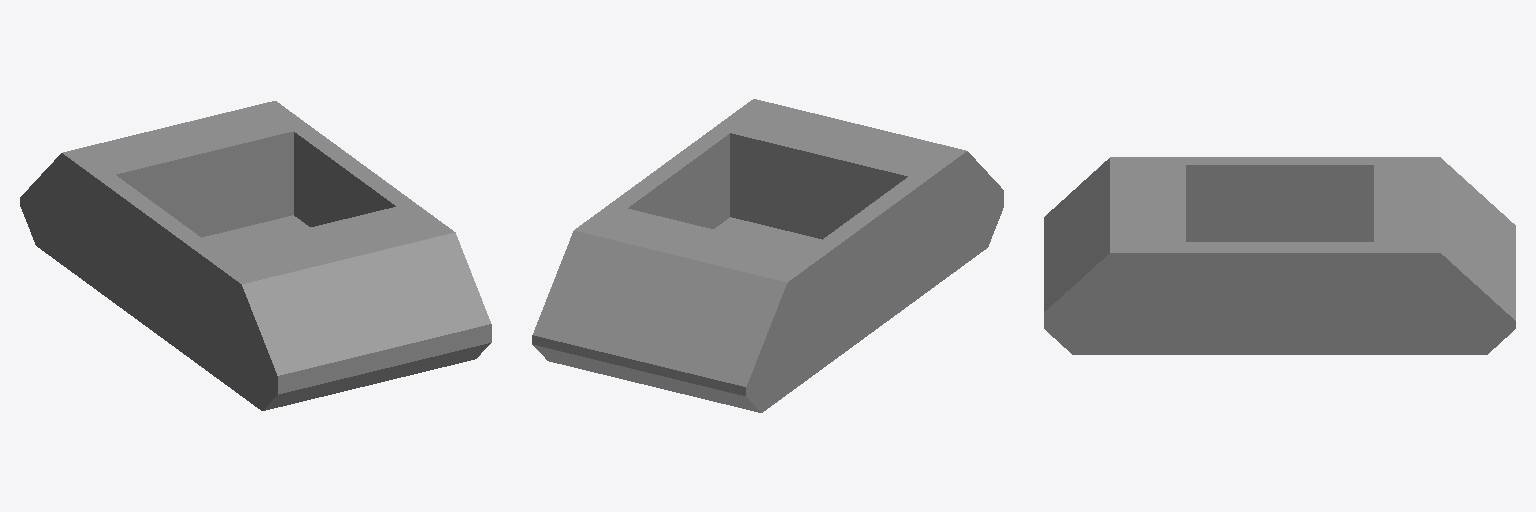
URDF robot description (worldv3):
<?xml version="1.0" encoding="utf-8"?>
<!-- This URDF was automatically created by SolidWorks to URDF Exporter! Originally created by [author] ([email redacted]) 
     Commit Version: 1.6.0-4-g7f85cfe  Build Version: 1.6.7995.38578
     For more information, please see http://wiki.ros.org/sw_urdf_exporter -->
<robot
  name="worldv3">
  <link
    name="base_link">
    <inertial>
      <origin
        xyz="-0.425115110970957 4.54042041545764 -3.25358123416043"
        rpy="0 0 0" />
      <mass
        value="2573.8812" />
      <inertia
        ixx="26975.5512846021"
        ixy="-4824.20809797755"
        ixz="-0.0074023472119172"
        iyy="14841.9767137964"
        iyz="-0.00658534998791365"
        izz="41730.6573822185" />
    </inertial>
    <visual>
      <origin
        xyz="0 0 0"
        rpy="0 0 0" />
      <geometry>
        <mesh
          filename="package://worldv3/meshes/base_link.STL" />
      </geometry>
      <material
        name="">
        <color
          rgba="0.627450980392157 0.627450980392157 0.627450980392157 1" />
      </material>
    </visual>
    <collision>
      <origin
        xyz="0 0 0"
        rpy="0 0 0" />
      <geometry>
        <mesh
          filename="package://worldv3/meshes/base_link.STL" />
      </geometry>
    </collision>
  </link>
  <link
    name="cp1_r">
    <inertial>
      <origin
        xyz="0 0.00150000000000006 0"
        rpy="0 0 0" />
      <mass
        value="0.0108000000000003" />
      <inertia
        ixx="3.24810000000006E-06"
        ixy="1.32348898008481E-23"
        ixz="-4.2351647362715E-22"
        iyy="6.48000000000016E-06"
        iyz="1.06539804104437E-24"
        izz="3.2481000000001E-06" />
    </inertial>
    <visual>
      <origin
        xyz="0 0 0"
        rpy="0 0 0" />
      <geometry>
        <mesh
          filename="package://worldv3/meshes/cp1_r.STL" />
      </geometry>
      <material
        name="">
        <color
          rgba="0.627450980392157 0.627450980392157 0.627450980392157 1" />
      </material>
    </visual>
    <collision>
      <origin
        xyz="0 0 0"
        rpy="0 0 0" />
      <geometry>
        <mesh
          filename="package://worldv3/meshes/cp1_r.STL" />
      </geometry>
    </collision>
  </link>
  <joint
    name="cp1j"
    type="fixed">
    <origin
      xyz="-3.54 0.19522 -3.1586"
      rpy="0 0 1.5708" />
    <parent
      link="base_link" />
    <child
      link="cp1_r" />
    <axis
      xyz="0 0 0" />
  </joint>
  <link
    name="cp2_r">
    <inertial>
      <origin
        xyz="0 0.00150000000000006 4.44089209850063E-16"
        rpy="0 0 0" />
      <mass
        value="0.0107999999999995" />
      <inertia
        ixx="3.2480999999998E-06"
        ixy="-1.98523347012514E-23"
        ixz="-8.10936611299124E-39"
        iyy="6.4799999999996E-06"
        iyz="1.04502689869028E-23"
        izz="3.2480999999998E-06" />
    </inertial>
    <visual>
      <origin
        xyz="0 0 0"
        rpy="0 0 0" />
      <geometry>
        <mesh
          filename="package://worldv3/meshes/cp2_r.STL" />
      </geometry>
      <material
        name="">
        <color
          rgba="0.627450980392157 0.627450980392157 0.627450980392157 1" />
      </material>
    </visual>
    <collision>
      <origin
        xyz="0 0 0"
        rpy="0 0 0" />
      <geometry>
        <mesh
          filename="package://worldv3/meshes/cp2_r.STL" />
      </geometry>
    </collision>
  </link>
  <joint
    name="cp2j"
    type="fixed">
    <origin
      xyz="-2.985 1.8152 -3.1586"
      rpy="0 0 0" />
    <parent
      link="base_link" />
    <child
      link="cp2_r" />
    <axis
      xyz="0 0 0" />
  </joint>
  <link
    name="cp3_b">
    <inertial>
      <origin
        xyz="0 0.00149999999999995 -4.44089209850063E-16"
        rpy="0 0 0" />
      <mass
        value="0.0107999999999999" />
      <inertia
        ixx="3.24809999999994E-06"
        ixy="1.83670992315982E-36"
        ixz="2.11758236813575E-22"
        iyy="6.47999999999993E-06"
        iyz="-4.16833383673257E-24"
        izz="3.24809999999999E-06" />
    </inertial>
    <visual>
      <origin
        xyz="0 0 0"
        rpy="0 0 0" />
      <geometry>
        <mesh
          filename="package://worldv3/meshes/cp3_b.STL" />
      </geometry>
      <material
        name="">
        <color
          rgba="0.627450980392157 0.627450980392157 0.627450980392157 1" />
      </material>
    </visual>
    <collision>
      <origin
        xyz="0 0 0"
        rpy="0 0 0" />
      <geometry>
        <mesh
          filename="package://worldv3/meshes/cp3_b.STL" />
      </geometry>
    </collision>
  </link>
  <joint
    name="cp3_j"
    type="fixed">
    <origin
      xyz="0.76299 1.4352 -3.1586"
      rpy="0 0 1.5708" />
    <parent
      link="base_link" />
    <child
      link="cp3_b" />
    <axis
      xyz="0 0 0" />
  </joint>
  <link
    name="cp4_b">
    <inertial>
      <origin
        xyz="0 0.00150000000000006 0"
        rpy="0 0 0" />
      <mass
        value="0.0108000000000003" />
      <inertia
        ixx="3.24810000000006E-06"
        ixy="6.61744490042431E-24"
        ixz="-2.11758236813574E-22"
        iyy="6.48000000000016E-06"
        iyz="7.68284294146855E-24"
        izz="3.2481000000001E-06" />
    </inertial>
    <visual>
      <origin
        xyz="0 0 0"
        rpy="0 0 0" />
      <geometry>
        <mesh
          filename="package://worldv3/meshes/cp4_b.STL" />
      </geometry>
      <material
        name="">
        <color
          rgba="0.627450980392157 0.627450980392157 0.627450980392157 1" />
      </material>
    </visual>
    <collision>
      <origin
        xyz="0 0 0"
        rpy="0 0 0" />
      <geometry>
        <mesh
          filename="package://worldv3/meshes/cp4_b.STL" />
      </geometry>
    </collision>
  </link>
  <joint
    name="cp4j"
    type="fixed">
    <origin
      xyz="0.064988 2.9152 -3.1836"
      rpy="0 0 0" />
    <parent
      link="base_link" />
    <child
      link="cp4_b" />
    <axis
      xyz="0 0 0" />
  </joint>
  <link
    name="cp5_r">
    <inertial>
      <origin
        xyz="0 0.00150000000000006 0"
        rpy="0 0 0" />
      <mass
        value="0.0108000000000003" />
      <inertia
        ixx="3.24810000000004E-06"
        ixy="-2.64697796016966E-23"
        ixz="0"
        iyy="6.48000000000008E-06"
        iyz="2.09177327423048E-23"
        izz="3.24810000000004E-06" />
    </inertial>
    <visual>
      <origin
        xyz="0 0 0"
        rpy="0 0 0" />
      <geometry>
        <mesh
          filename="package://worldv3/meshes/cp5_r.STL" />
      </geometry>
      <material
        name="">
        <color
          rgba="0.627450980392157 0.627450980392157 0.627450980392157 1" />
      </material>
    </visual>
    <collision>
      <origin
        xyz="0 0 0"
        rpy="0 0 0" />
      <geometry>
        <mesh
          filename="package://worldv3/meshes/cp5_r.STL" />
      </geometry>
    </collision>
  </link>
  <joint
    name="cp5j"
    type="fixed">
    <origin
      xyz="-3.543 2.3702 -3.1836"
      rpy="0 0 -1.5708" />
    <parent
      link="base_link" />
    <child
      link="cp5_r" />
    <axis
      xyz="0 0 0" />
  </joint>
  <link
    name="cp6_r">
    <inertial>
      <origin
        xyz="4.44089209850063E-16 0.00150000000000006 -4.44089209850063E-16"
        rpy="0 0 0" />
      <mass
        value="0.0108000000000003" />
      <inertia
        ixx="3.24810000000004E-06"
        ixy="-1.98523347012724E-23"
        ixz="0"
        iyy="6.48000000000008E-06"
        iyz="2.7535177642729E-23"
        izz="3.24810000000004E-06" />
    </inertial>
    <visual>
      <origin
        xyz="0 0 0"
        rpy="0 0 0" />
      <geometry>
        <mesh
          filename="package://worldv3/meshes/cp6_r.STL" />
      </geometry>
      <material
        name="">
        <color
          rgba="0.627450980392157 0.627450980392157 0.627450980392157 1" />
      </material>
    </visual>
    <collision>
      <origin
        xyz="0 0 0"
        rpy="0 0 0" />
      <geometry>
        <mesh
          filename="package://worldv3/meshes/cp6_r.STL" />
      </geometry>
    </collision>
  </link>
  <joint
    name="cp6j"
    type="fixed">
    <origin
      xyz="-3.11 4.0152 -3.1586"
      rpy="0 0 0" />
    <parent
      link="base_link" />
    <child
      link="cp6_r" />
    <axis
      xyz="0 0 0" />
  </joint>
  <link
    name="cp7_b">
    <inertial>
      <origin
        xyz="-4.44089209850063E-16 0.00150000000000028 0"
        rpy="0 0 0" />
      <mass
        value="0.0107999999999999" />
      <inertia
        ixx="3.24809999999992E-06"
        ixy="-3.044024654194E-23"
        ixz="-1.62187322259819E-38"
        iyy="6.47999999999984E-06"
        iyz="-1.07857787371586E-23"
        izz="3.24809999999992E-06" />
    </inertial>
    <visual>
      <origin
        xyz="0 0 0"
        rpy="0 0 0" />
      <geometry>
        <mesh
          filename="package://worldv3/meshes/cp7_b.STL" />
      </geometry>
      <material
        name="">
        <color
          rgba="0.627450980392157 0.627450980392157 0.627450980392157 1" />
      </material>
    </visual>
    <collision>
      <origin
        xyz="0 0 0"
        rpy="0 0 0" />
      <geometry>
        <mesh
          filename="package://worldv3/meshes/cp7_b.STL" />
      </geometry>
    </collision>
  </link>
  <joint
    name="cp7j"
    type="fixed">
    <origin
      xyz="0.75999 3.5352 -3.1836"
      rpy="0 0 -1.5708" />
    <parent
      link="base_link" />
    <child
      link="cp7_b" />
    <axis
      xyz="0 0 0" />
  </joint>
  <link
    name="cp8_b">
    <inertial>
      <origin
        xyz="3.46944695195361E-18 0.00150000000000006 0"
        rpy="0 0 0" />
      <mass
        value="0.0108000000000003" />
      <inertia
        ixx="3.24810000000006E-06"
        ixy="6.61744490042431E-24"
        ixz="-2.11758236813574E-22"
        iyy="6.48000000000016E-06"
        iyz="7.68284294146855E-24"
        izz="3.2481000000001E-06" />
    </inertial>
    <visual>
      <origin
        xyz="0 0 0"
        rpy="0 0 0" />
      <geometry>
        <mesh
          filename="package://worldv3/meshes/cp8_b.STL" />
      </geometry>
      <material
        name="">
        <color
          rgba="0.627450980392157 0.627450980392157 0.627450980392157 1" />
      </material>
    </visual>
    <collision>
      <origin
        xyz="0 0 0"
        rpy="0 0 0" />
      <geometry>
        <mesh
          filename="package://worldv3/meshes/cp8_b.STL" />
      </geometry>
    </collision>
  </link>
  <joint
    name="cp8j"
    type="fixed">
    <origin
      xyz="0.014988 5.1152 -3.1586"
      rpy="0 0 0" />
    <parent
      link="base_link" />
    <child
      link="cp8_b" />
    <axis
      xyz="0 0 0" />
  </joint>
  <link
    name="cp9_r">
    <inertial>
      <origin
        xyz="-8.88178419700125E-16 0.00150000000000006 4.44089209850063E-16"
        rpy="0 0 0" />
      <mass
        value="0.0108000000000004" />
      <inertia
        ixx="3.24810000000009E-06"
        ixy="-1.32348898008483E-23"
        ixz="0"
        iyy="6.48000000000027E-06"
        iyz="1.43002878419084E-23"
        izz="3.24810000000018E-06" />
    </inertial>
    <visual>
      <origin
        xyz="0 0 0"
        rpy="0 0 0" />
      <geometry>
        <mesh
          filename="package://worldv3/meshes/cp9_r.STL" />
      </geometry>
      <material
        name="">
        <color
          rgba="0.627450980392157 0.627450980392157 0.627450980392157 1" />
      </material>
    </visual>
    <collision>
      <origin
        xyz="0 0 0"
        rpy="0 0 0" />
      <geometry>
        <mesh
          filename="package://worldv3/meshes/cp9_r.STL" />
      </geometry>
    </collision>
  </link>
  <joint
    name="cp9j"
    type="fixed">
    <origin
      xyz="-3.54 4.4952 -3.1586"
      rpy="0 0 1.5708" />
    <parent
      link="base_link" />
    <child
      link="cp9_r" />
    <axis
      xyz="0 0 0" />
  </joint>
  <link
    name="cp10_r">
    <inertial>
      <origin
        xyz="0 0.00150000000000006 0"
        rpy="0 0 0" />
      <mass
        value="0.0108000000000003" />
      <inertia
        ixx="3.24810000000004E-06"
        ixy="-1.98523347012724E-23"
        ixz="-1.62187322259838E-40"
        iyy="6.48000000000008E-06"
        iyz="2.7535177642729E-23"
        izz="3.24810000000004E-06" />
    </inertial>
    <visual>
      <origin
        xyz="0 0 0"
        rpy="0 0 0" />
      <geometry>
        <mesh
          filename="package://worldv3/meshes/cp10_r.STL" />
      </geometry>
      <material
        name="">
        <color
          rgba="0.627450980392157 0.627450980392157 0.627450980392157 1" />
      </material>
    </visual>
    <collision>
      <origin
        xyz="0 0 0"
        rpy="0 0 0" />
      <geometry>
        <mesh
          filename="package://worldv3/meshes/cp10_r.STL" />
      </geometry>
    </collision>
  </link>
  <joint
    name="cp10j"
    type="fixed">
    <origin
      xyz="-3.1339 8.9152 -3.1729"
      rpy="0 0 0" />
    <parent
      link="base_link" />
    <child
      link="cp10_r" />
    <axis
      xyz="0 0 0" />
  </joint>
  <link
    name="cp11_g">
    <inertial>
      <origin
        xyz="0 0.00150000000000006 -4.44089209850063E-16"
        rpy="0 0 0" />
      <mass
        value="0.0108000000000001" />
      <inertia
        ixx="3.24809999999999E-06"
        ixy="-1.32348898008485E-23"
        ixz="-2.11758236813567E-22"
        iyy="6.47999999999988E-06"
        iyz="2.75351776427015E-23"
        izz="3.2480999999999E-06" />
    </inertial>
    <visual>
      <origin
        xyz="0 0 0"
        rpy="0 0 0" />
      <geometry>
        <mesh
          filename="package://worldv3/meshes/cp11_g.STL" />
      </geometry>
      <material
        name="">
        <color
          rgba="0.627450980392157 0.627450980392157 0.627450980392157 1" />
      </material>
    </visual>
    <collision>
      <origin
        xyz="0 0 0"
        rpy="0 0 0" />
      <geometry>
        <mesh
          filename="package://worldv3/meshes/cp11_g.STL" />
      </geometry>
    </collision>
  </link>
  <joint
    name="cp11j"
    type="fixed">
    <origin
      xyz="4.763 8.4064 -3.1611"
      rpy="0 0 1.5708" />
    <parent
      link="base_link" />
    <child
      link="cp11_g" />
    <axis
      xyz="0 0 0" />
  </joint>
</robot>

--- Facts derived from the render (not from the file) ---
Views: 3 orthographic renders of the robot side by side, from view 1: azimuth 30°, elevation 25°; view 2: azimuth 150°, elevation 25°; view 3: azimuth 270°, elevation 25°.
Model worldv3 with 12 links and 11 joints (11 fixed), rooted at base_link, posed all joints at 0.
Visible links, largest first — view 1: base_link; view 2: base_link; view 3: base_link.
Link boxes in pixels (<box>): base_link: <box>20,101,491,410</box>; base_link: <box>532,99,1003,412</box>; base_link: <box>1044,157,1515,354</box>.
Bounding box of the posed robot: 0.36 × 0.75 × 0.18 m (x, y, z).
Meshes: 12 distinct files referenced, 1 mesh visuals loaded (1 binary STL); not drawn: 11 (reference not matched to a file when rendering).